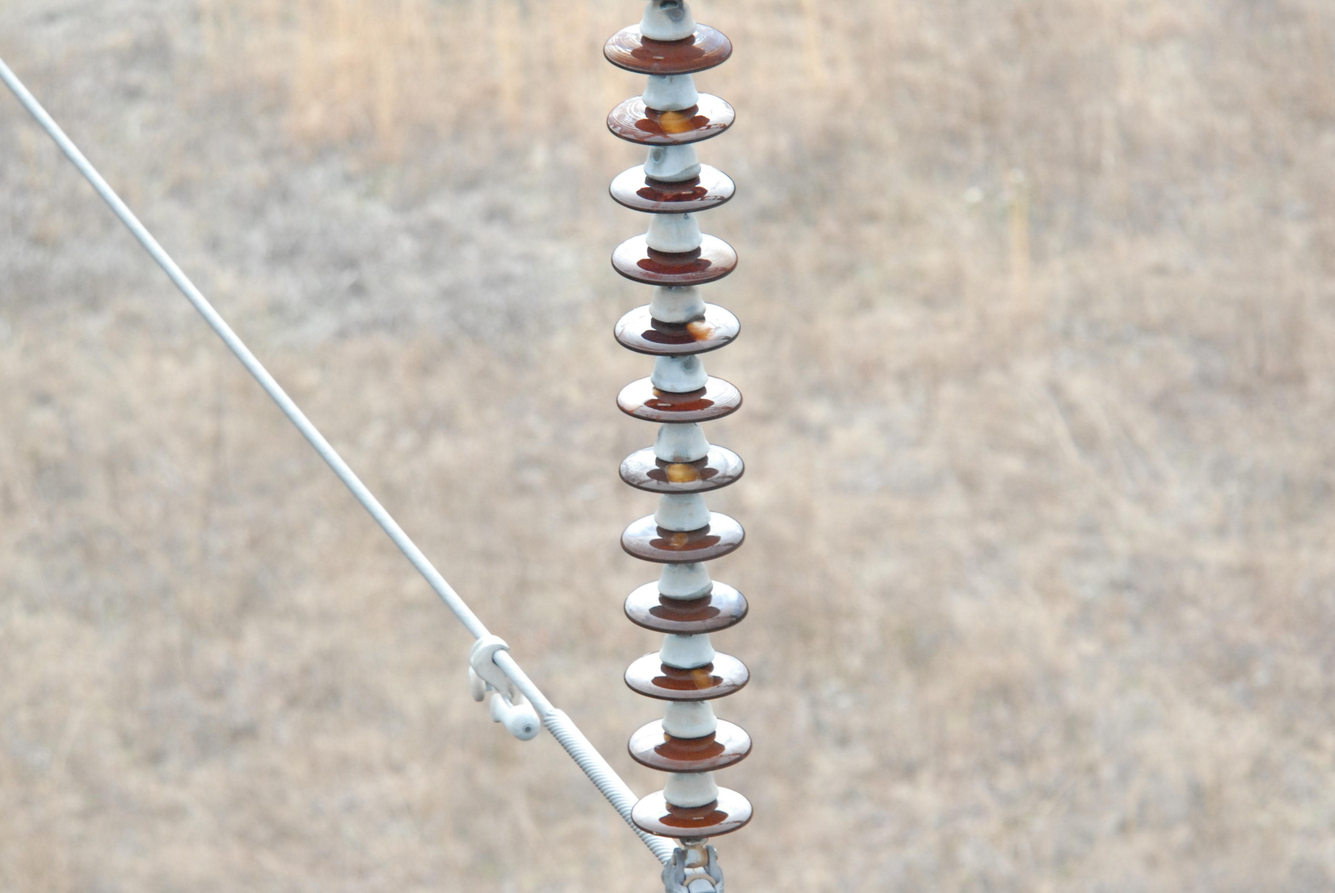Flashover: (655, 106, 695, 145), (663, 459, 703, 493), (685, 314, 722, 349), (686, 663, 721, 695), (665, 526, 692, 556)
hammer: (456, 625, 542, 742)
insulator: (593, 28, 752, 838)
